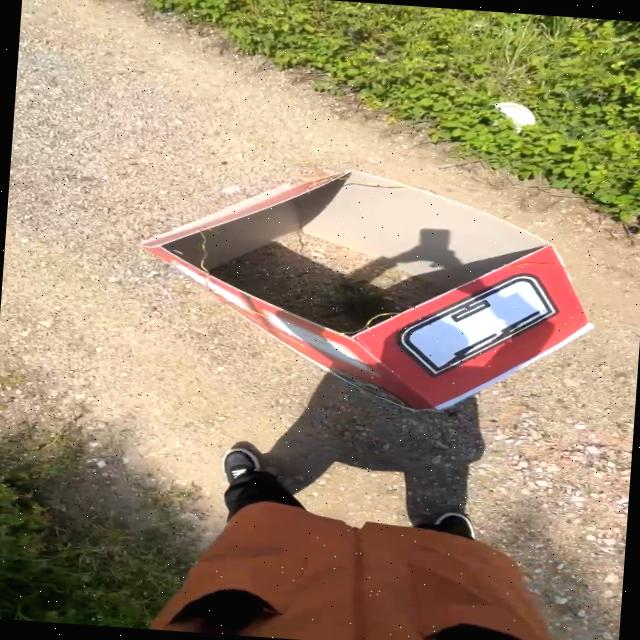red_car: (99, 128, 640, 470)
